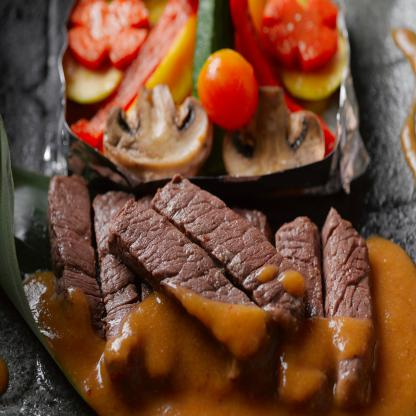Carne: (155, 174, 264, 274), (116, 193, 231, 287), (324, 209, 372, 396), (45, 172, 94, 296), (94, 196, 138, 311), (274, 217, 323, 315)
